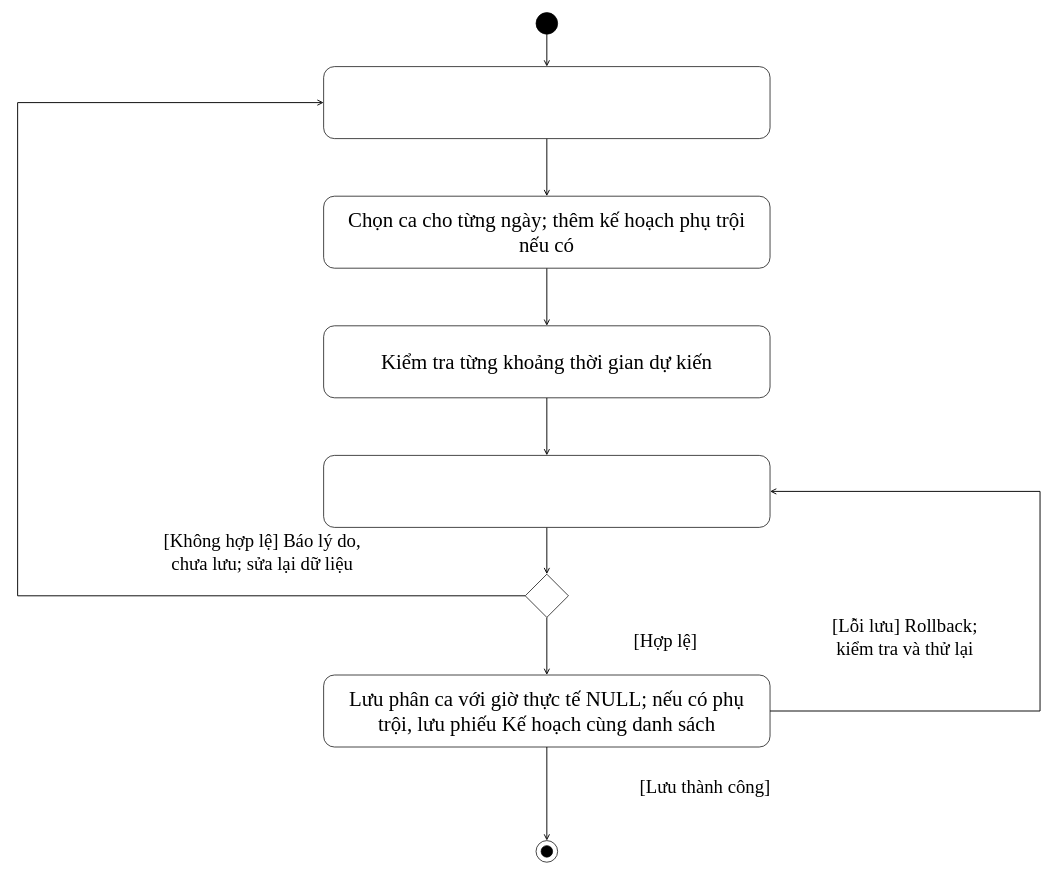
This 1059x875 diagram has some shape labels left out. Each missing label, with the centre of its shape:
"Chọn tuần, bộ phận và nhân viên" belongs at pixel 546 102.
"Kiểm tra thời gian nhân viên còn làm việc, chồng ca / phụ trội và kỳ chưa chốt" belongs at pixel 546 491.
